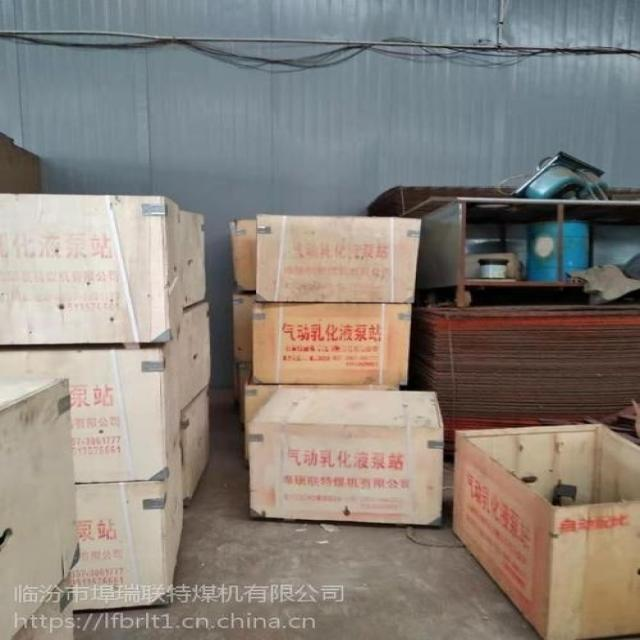box: (452, 422, 640, 640), (0, 193, 182, 344), (246, 389, 444, 527), (0, 341, 182, 483), (0, 380, 83, 638), (72, 444, 186, 611), (256, 213, 422, 302), (253, 301, 412, 384), (14, 573, 76, 639), (182, 386, 212, 509), (182, 301, 214, 413), (180, 210, 205, 309), (228, 220, 256, 292), (229, 295, 253, 364)
